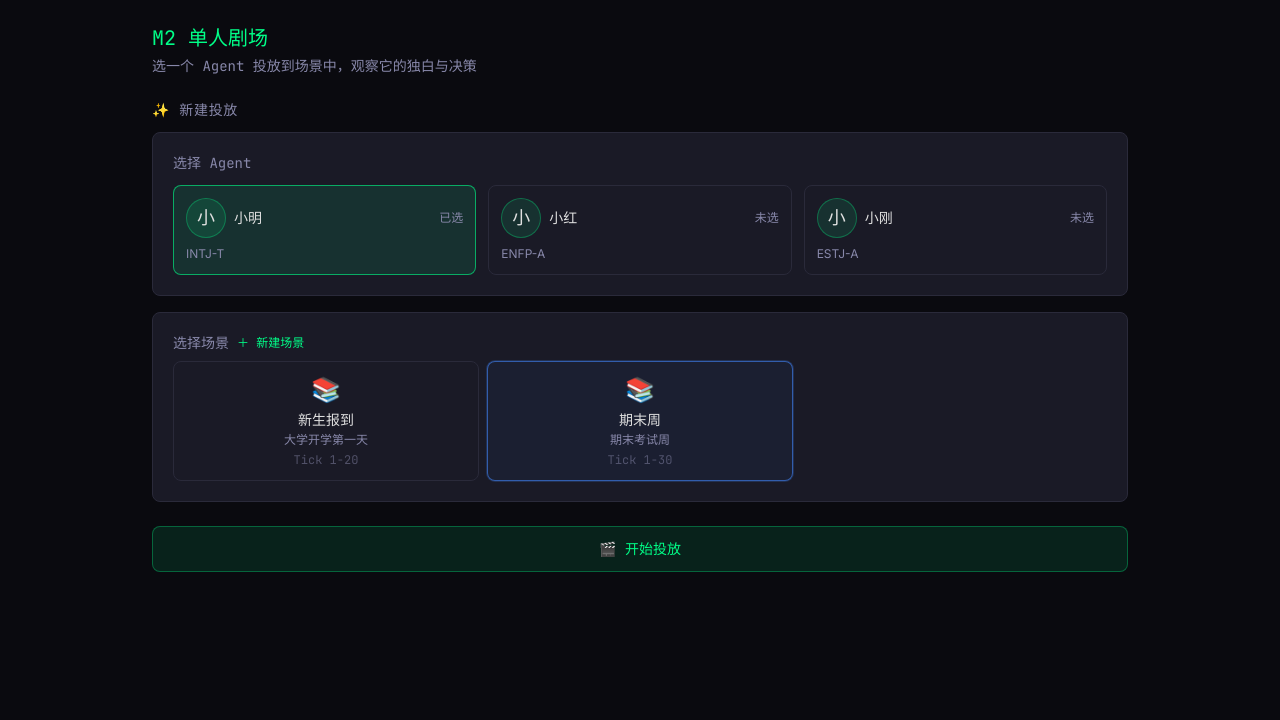
it: M2 SoloTheater lifecycle › pauses, resumes, and resets without replacing the active World
Click the button "🎬 开始投放" at (640, 549), box [152,526,1128,572]
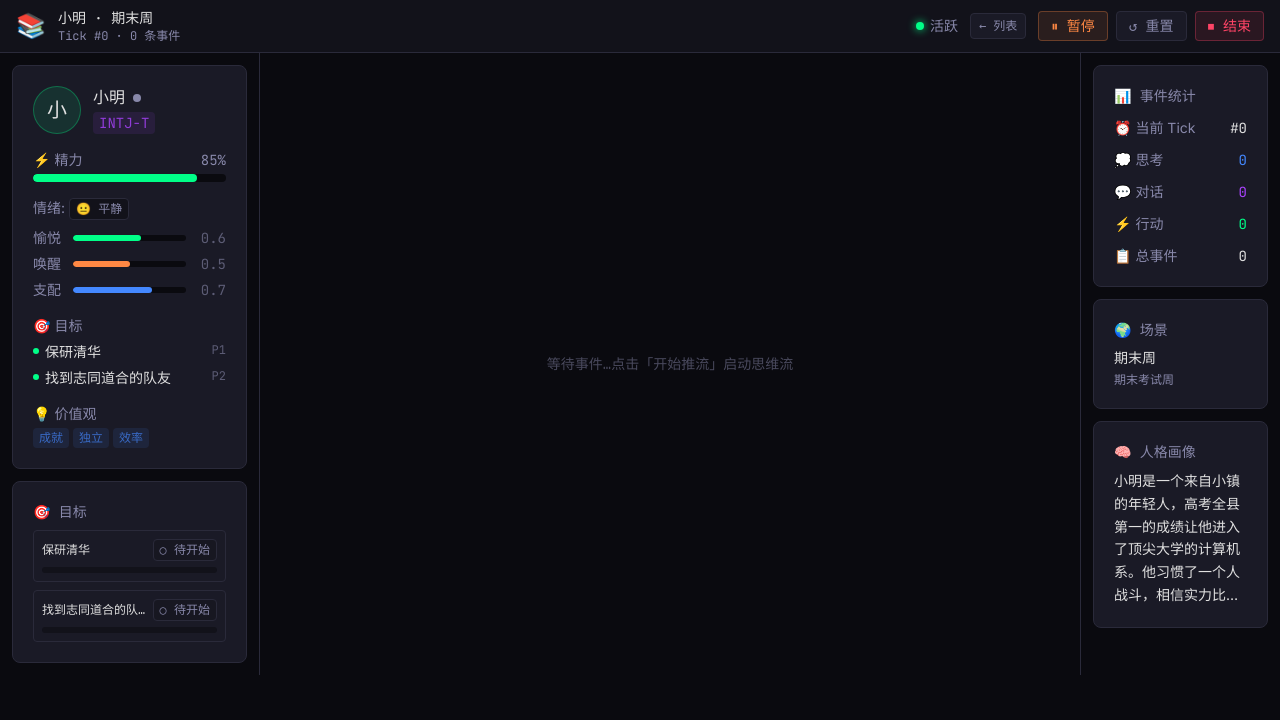
Click the button "⏸ 暂停" at (1073, 26), box [1038,11,1108,41]
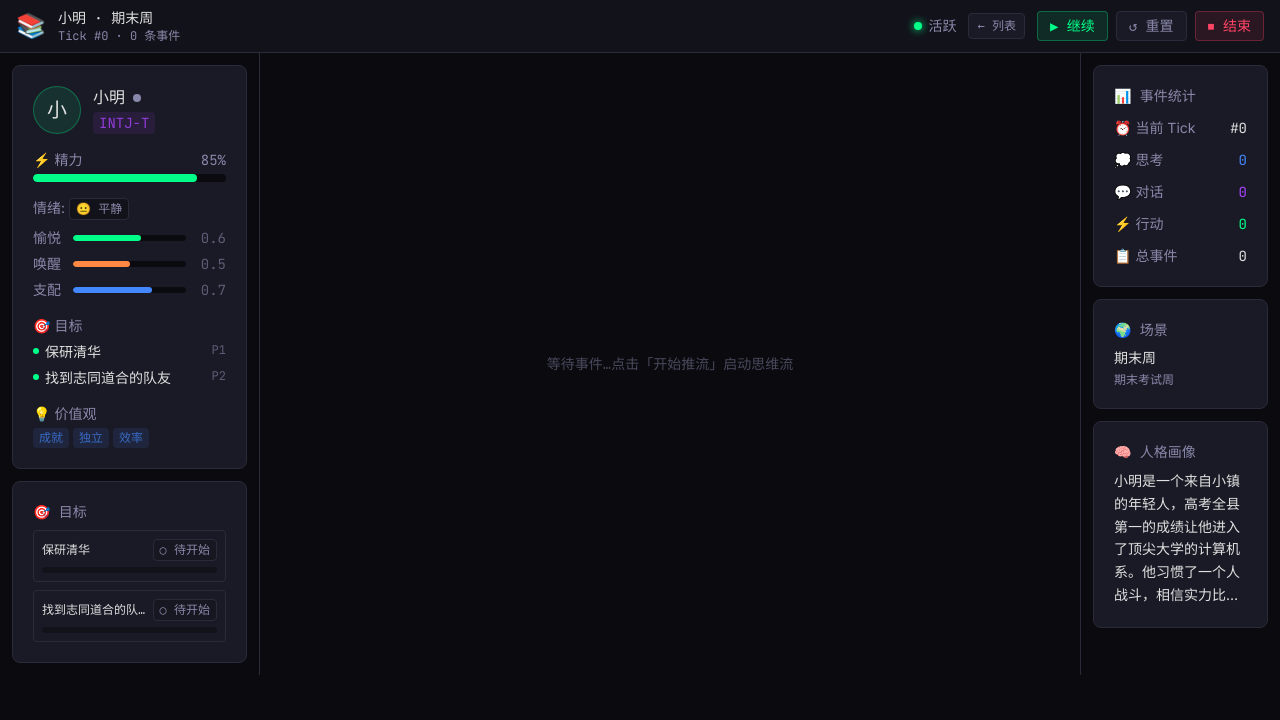
Click the button "▶ 继续" at (1072, 26), box [1037,11,1108,41]
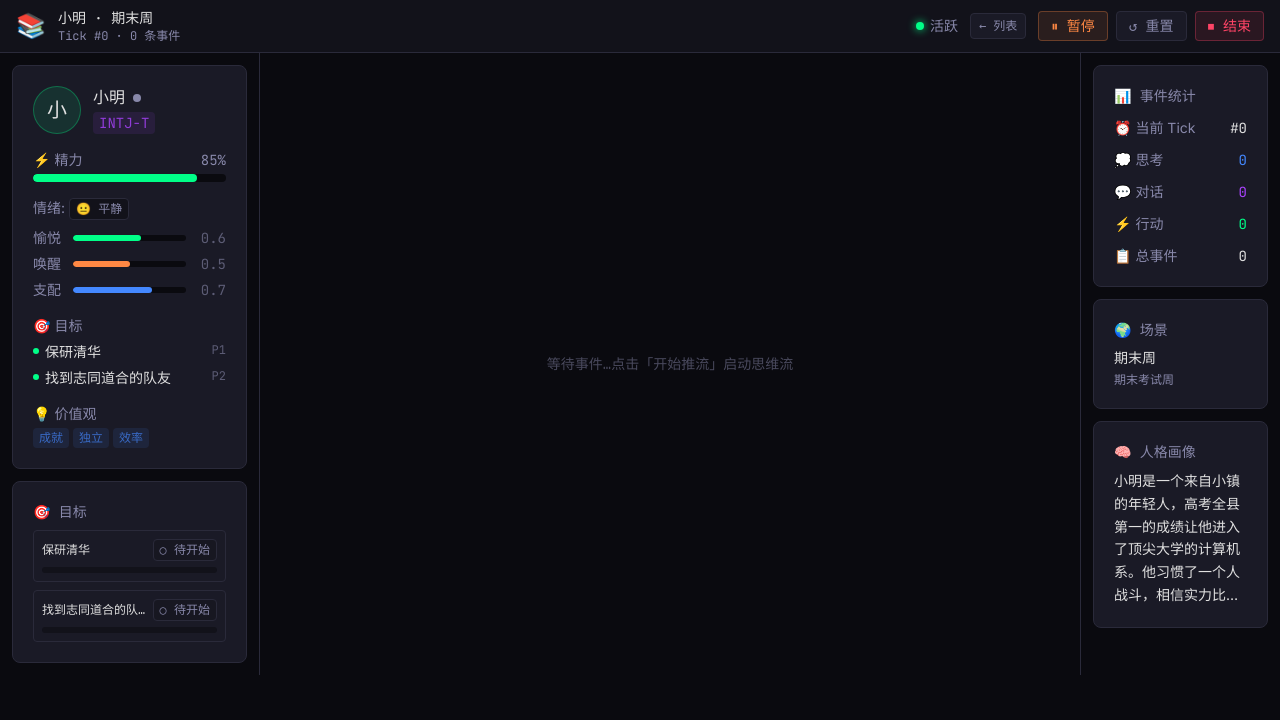
Click the button "↺ 重置" at (1151, 26), box [1116,11,1187,41]
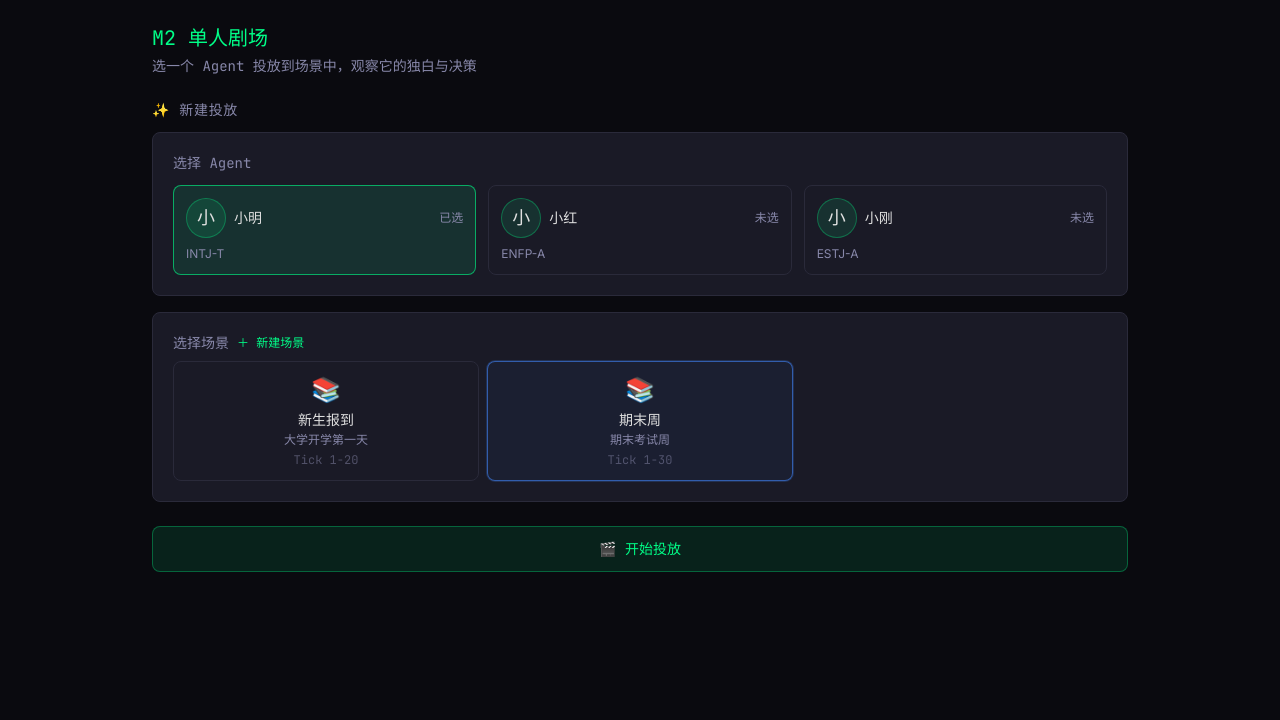
Now the button "🎬 开始投放" is shown, box [152,526,1128,572]
